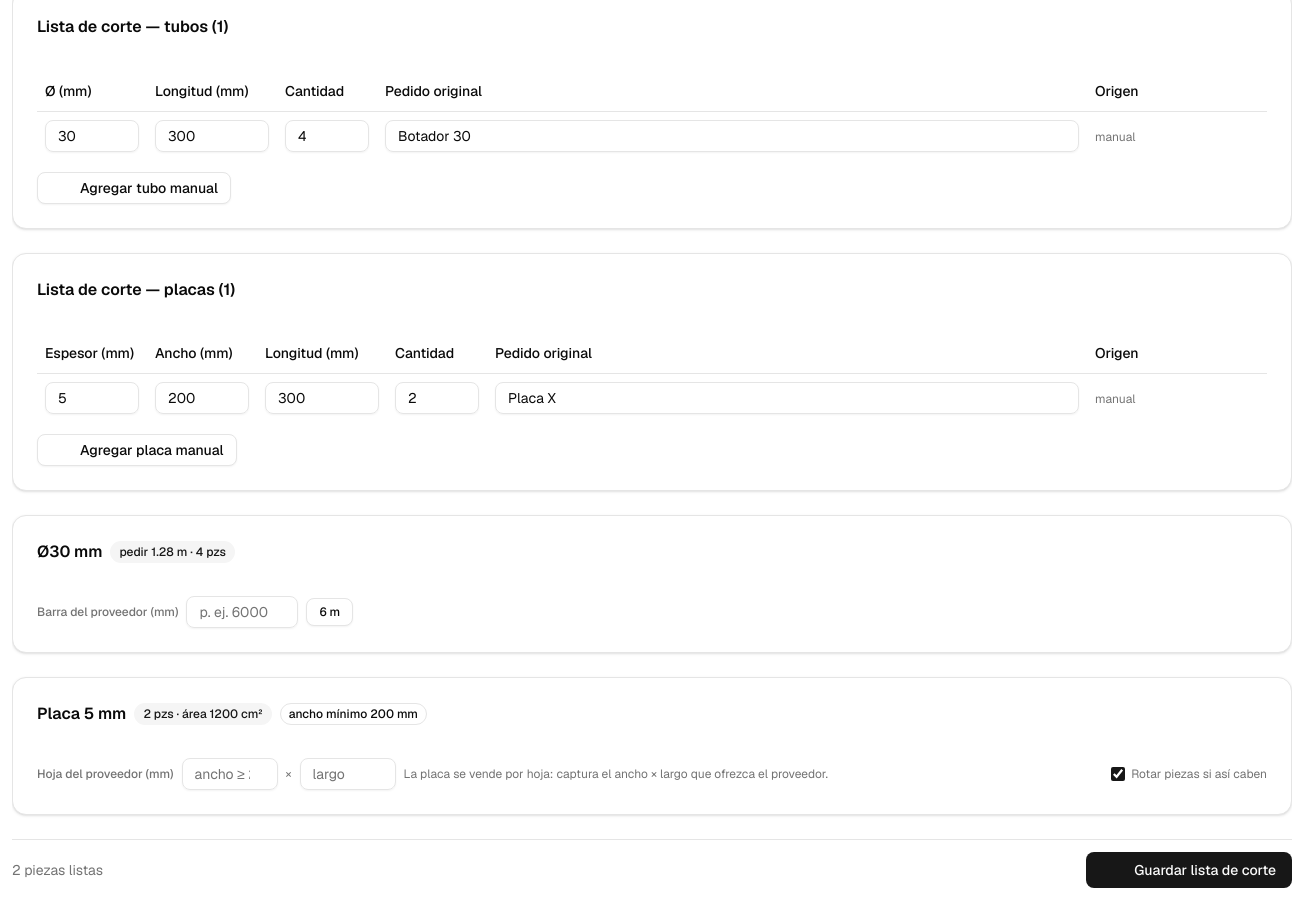
CutPlanner › hoja más angosta que la pieza → aviso, sin diagrama
The image size is (1304, 900).
(page scrolled)
Type "150" into the number field named "Ancho de la hoja del proveedor" at [230, 774], box x1=182 y1=758 x2=278 y2=790
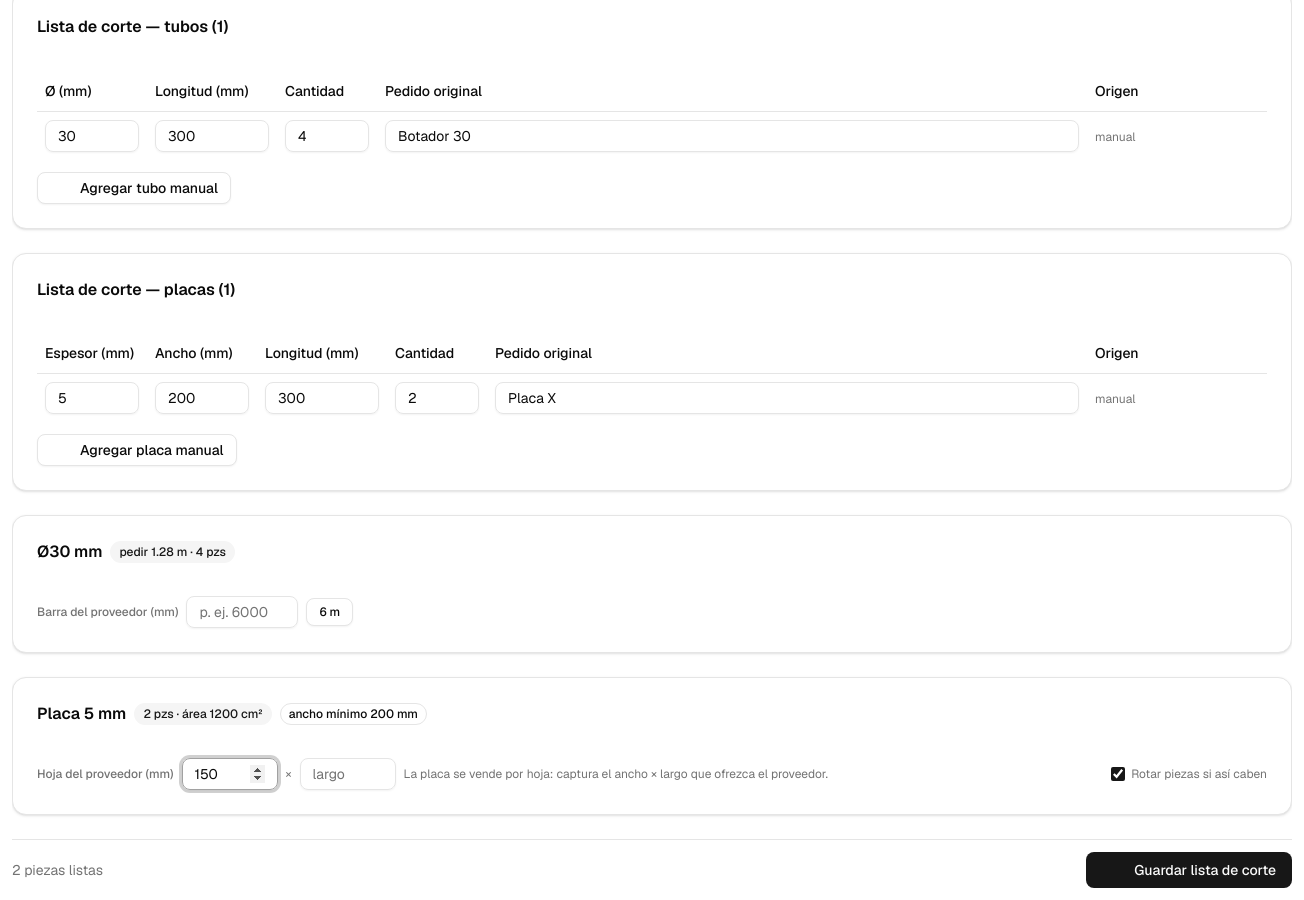
Type "400" into the number field named "Largo de la hoja del proveedor" at [348, 774], box x1=300 y1=758 x2=396 y2=790
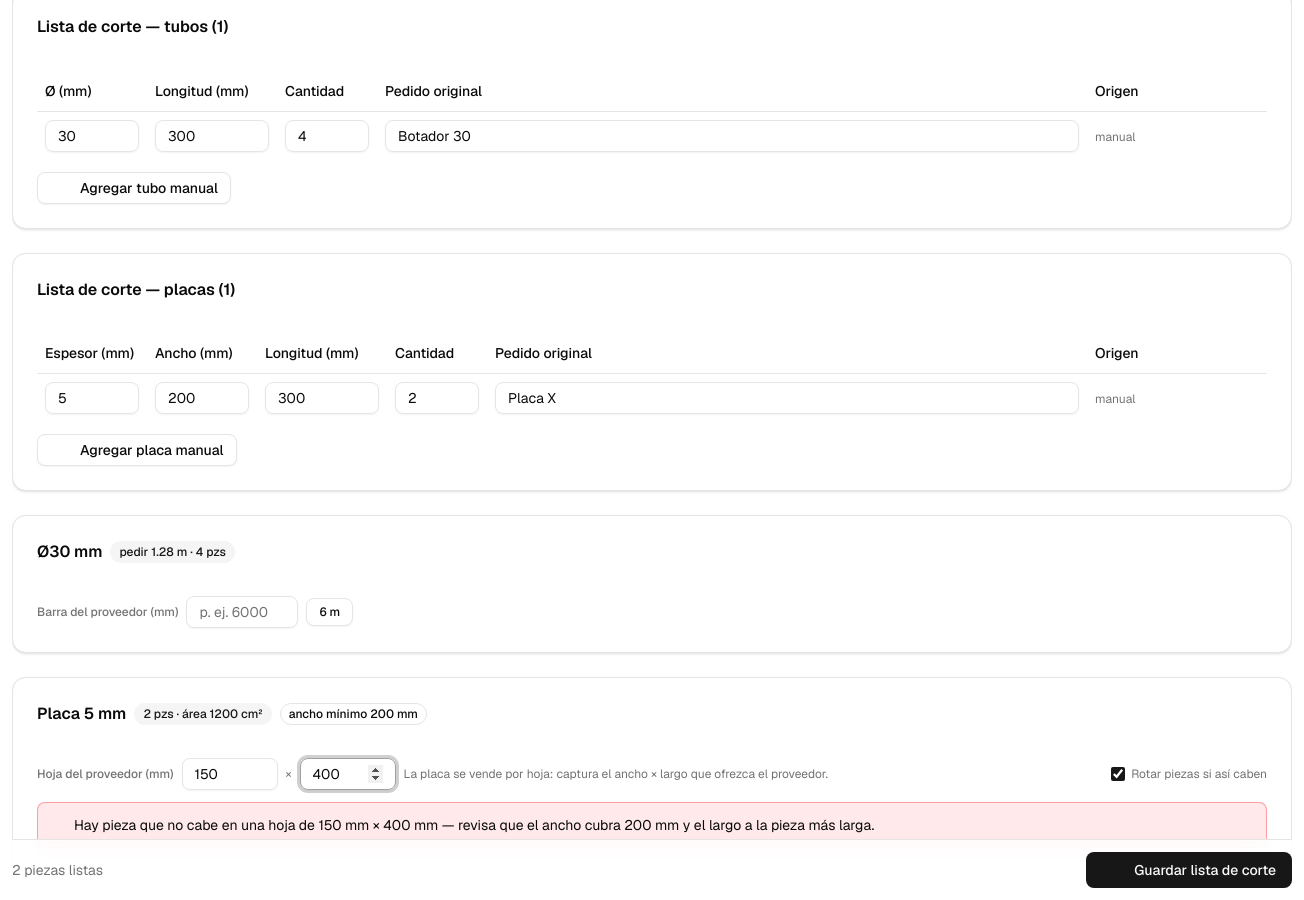
Expected: the text "no cabe" is shown, x1=136 y1=816 x2=218 y2=834
